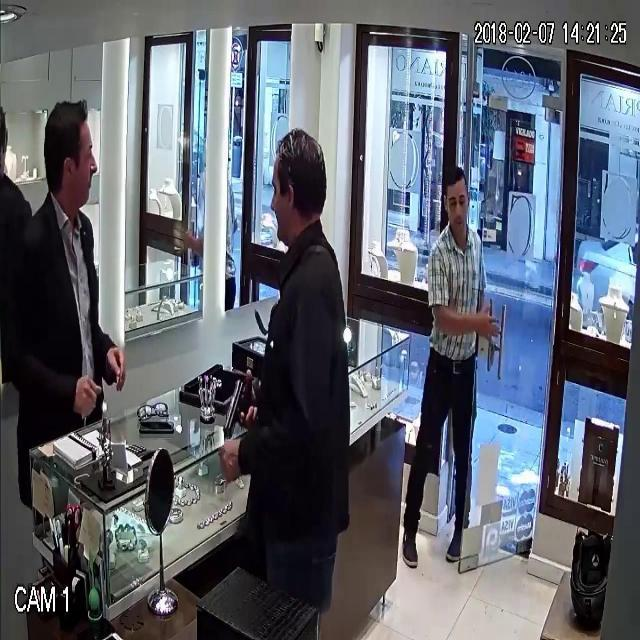weapon: (217, 348, 261, 467)
